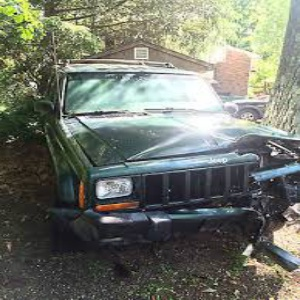bumper: (91, 155, 300, 246)
